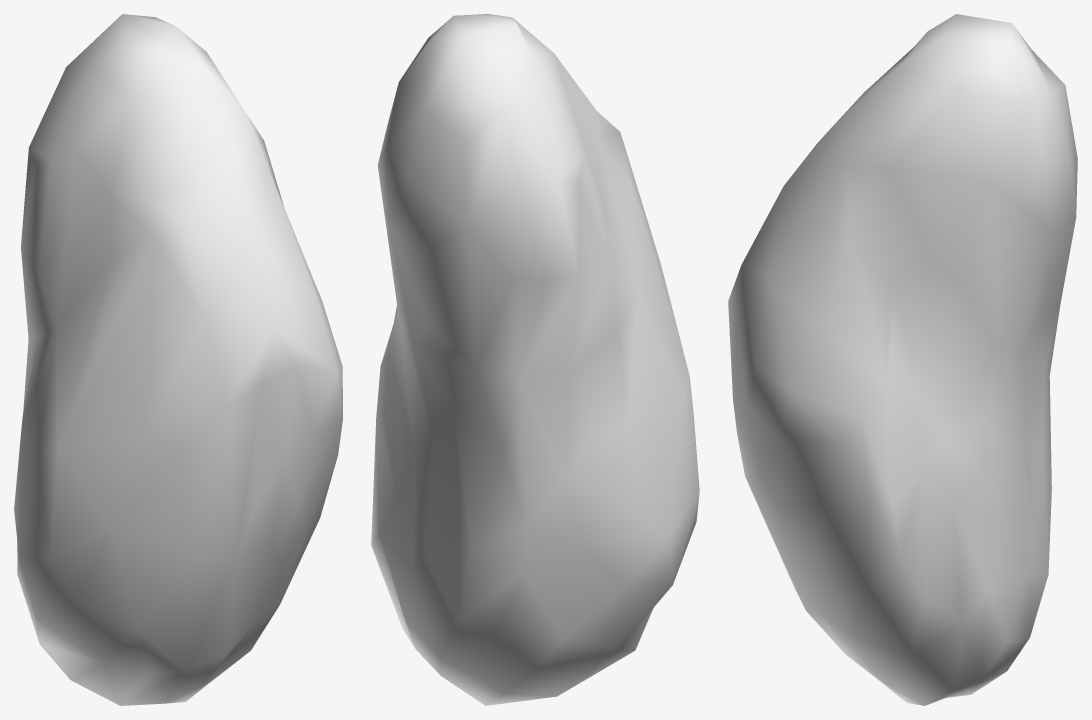
The model's file is Snow_003.glb.
The picture shows the model from 3 angles, left to right: view 1: azimuth 30°, elevation 25°; view 2: azimuth 150°, elevation 25°; view 3: azimuth 270°, elevation 25°; orthographic projection. The views are drawn at different scales.
Parts seen in each view (by area): view 1: Snow_003; view 2: Snow_003; view 3: Snow_003.
Part boxes in pixels (x1,y1,x2,y2): Snow_003: (14, 14, 342, 705); Snow_003: (371, 14, 699, 705); Snow_003: (728, 14, 1077, 705).
Bounding box in the file's own units: 0.9646 × 2.09 × 0.9827.
Materials: 1 (1 with a texture image).
